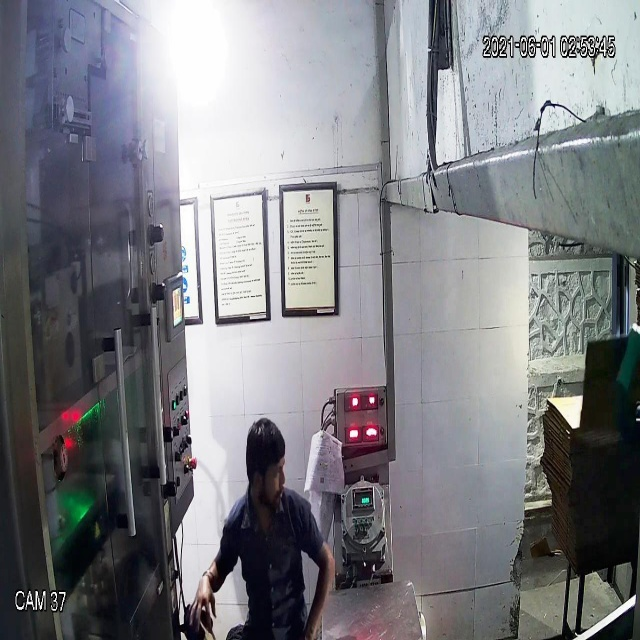Sin_gafas: (246, 457, 289, 491)
